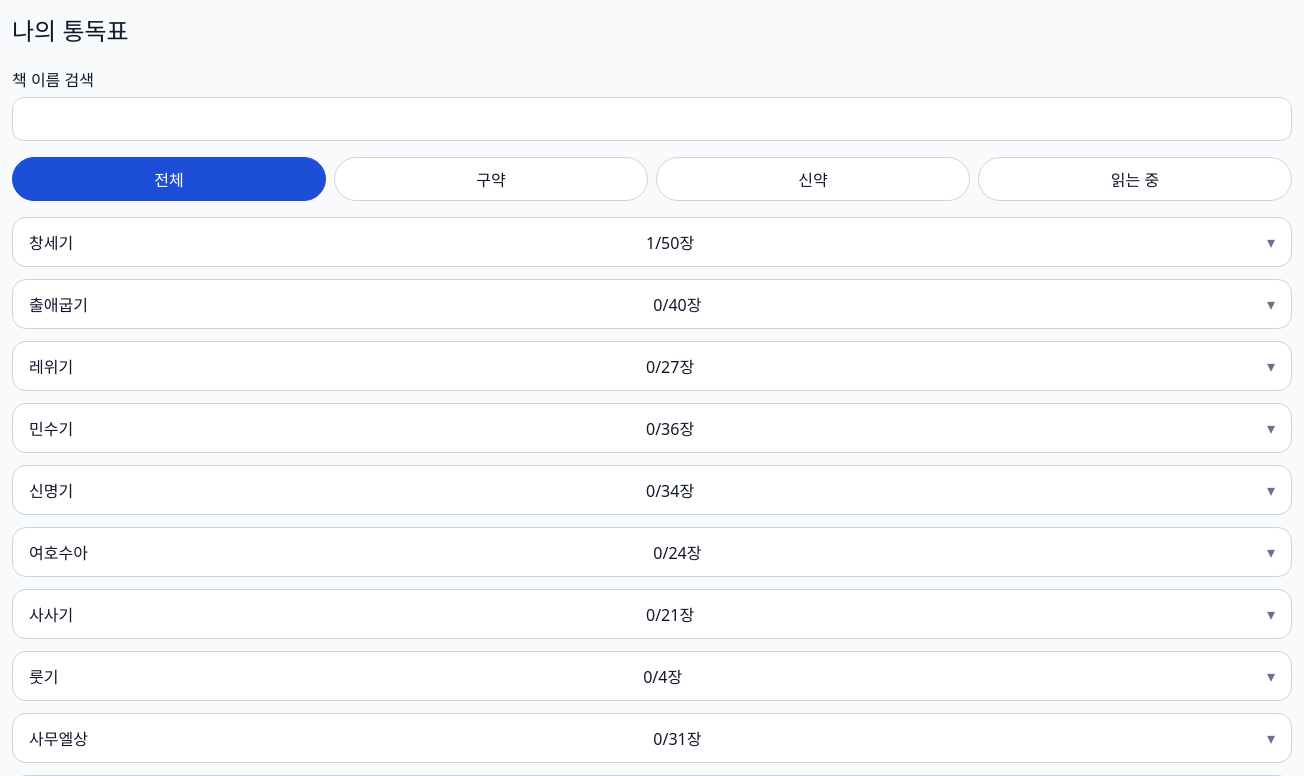
Test: TrackerPage › 전체·구약·신약·읽는 중 필터를 적용하고 범위 밖 이벤트는 무시한다
Step 1. Click the button "구약" → (491, 179), box [334,157,648,201]
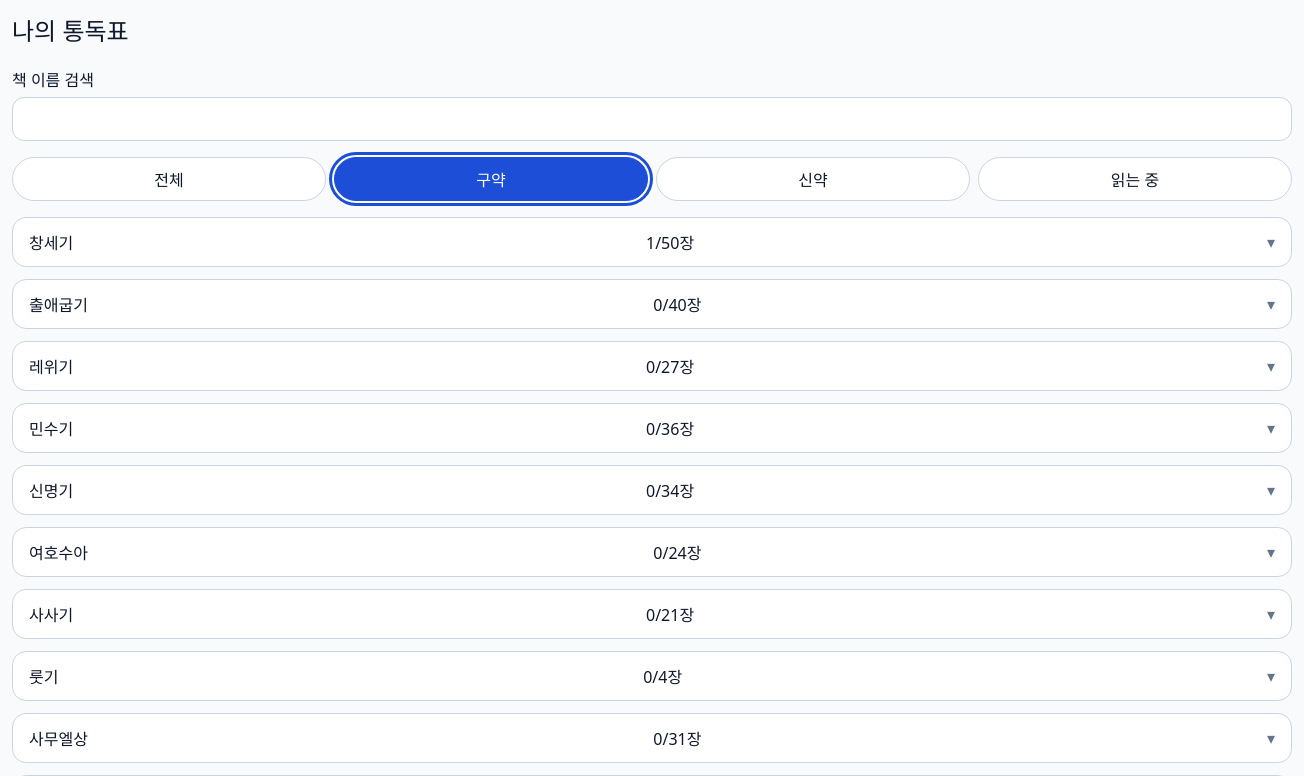
Expected: the button with aria-label "창세기, 1/50장, 펼치기" is shown, [13,218,1291,266]
Expected: the button with aria-label "출애굽기, 0/40장, 펼치기" is shown, [13,280,1291,328]
Step 2. Click the button "신약" → (813, 179), box [656,157,970,201]
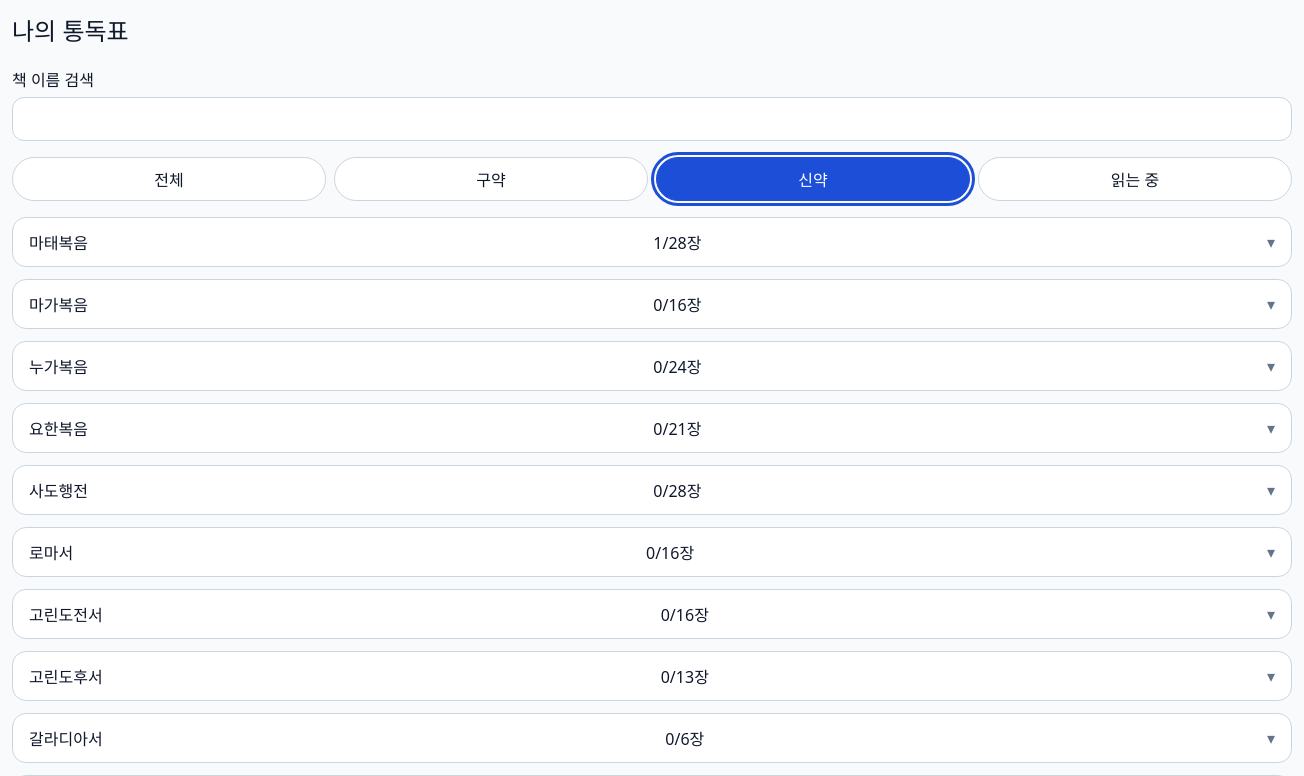
Expected: the number of buttons named "장, 펼치기" is 27
Step 3. Click the button "읽는 중" → (1135, 179), box [978,157,1292,201]
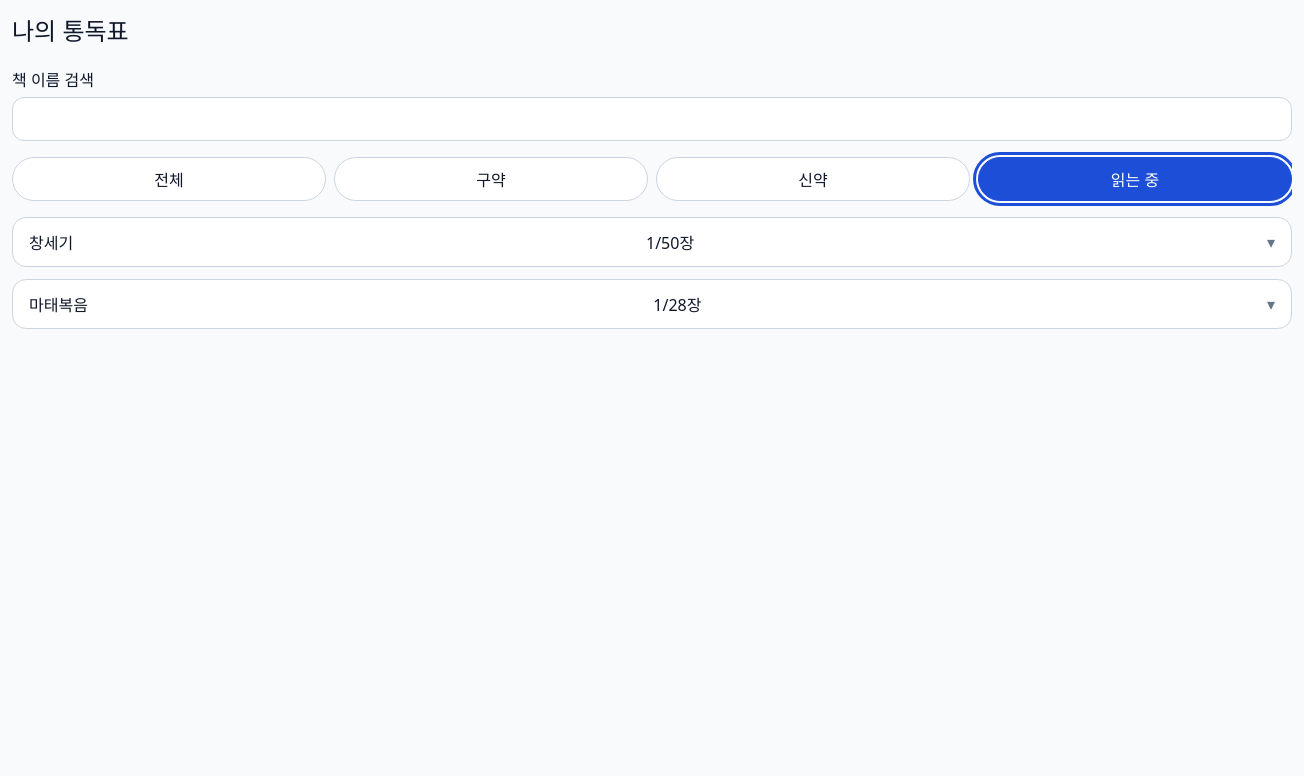
Expected: the button "출애굽기" is not shown
Expected: the number of buttons named "장, 펼치기" is 2, [13,218,1291,266]; [13,280,1291,328]
